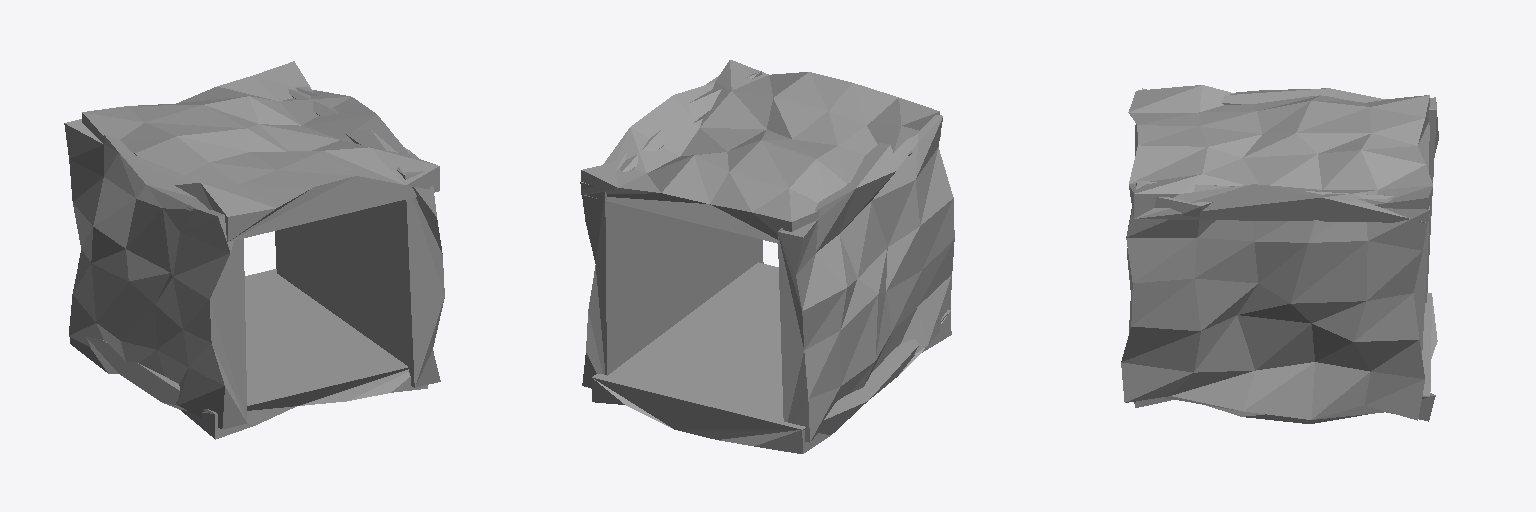
Rendered from cave_rock.obj.
3 renders of one model, left to right at view 1: azimuth 30°, elevation 25°; view 2: azimuth 150°, elevation 25°; view 3: azimuth 270°, elevation 25°, orthographic.
Parts seen in each view (by area): view 1: Cube.003, Cube.001, Cube.002, Cube; view 2: Cube.003, Cube.001, Cube, Cube.002; view 3: Cube.002, Cube.001, Cube.003, Cube.
Part boxes in pixels (x1,y1,x2,y2): Cube.003: (64, 119, 247, 429); Cube.001: (82, 61, 439, 241); Cube.002: (275, 86, 444, 387); Cube: (70, 269, 427, 439); Cube.003: (778, 115, 954, 442); Cube.001: (581, 60, 940, 243); Cube: (592, 262, 951, 453); Cube.002: (580, 66, 763, 388); Cube.002: (1121, 181, 1429, 420); Cube.001: (1128, 85, 1432, 222); Cube.003: (1127, 88, 1438, 302); Cube: (1134, 293, 1437, 423).
Size of the model in its own units: 2.43 by 2.38 by 2.75.